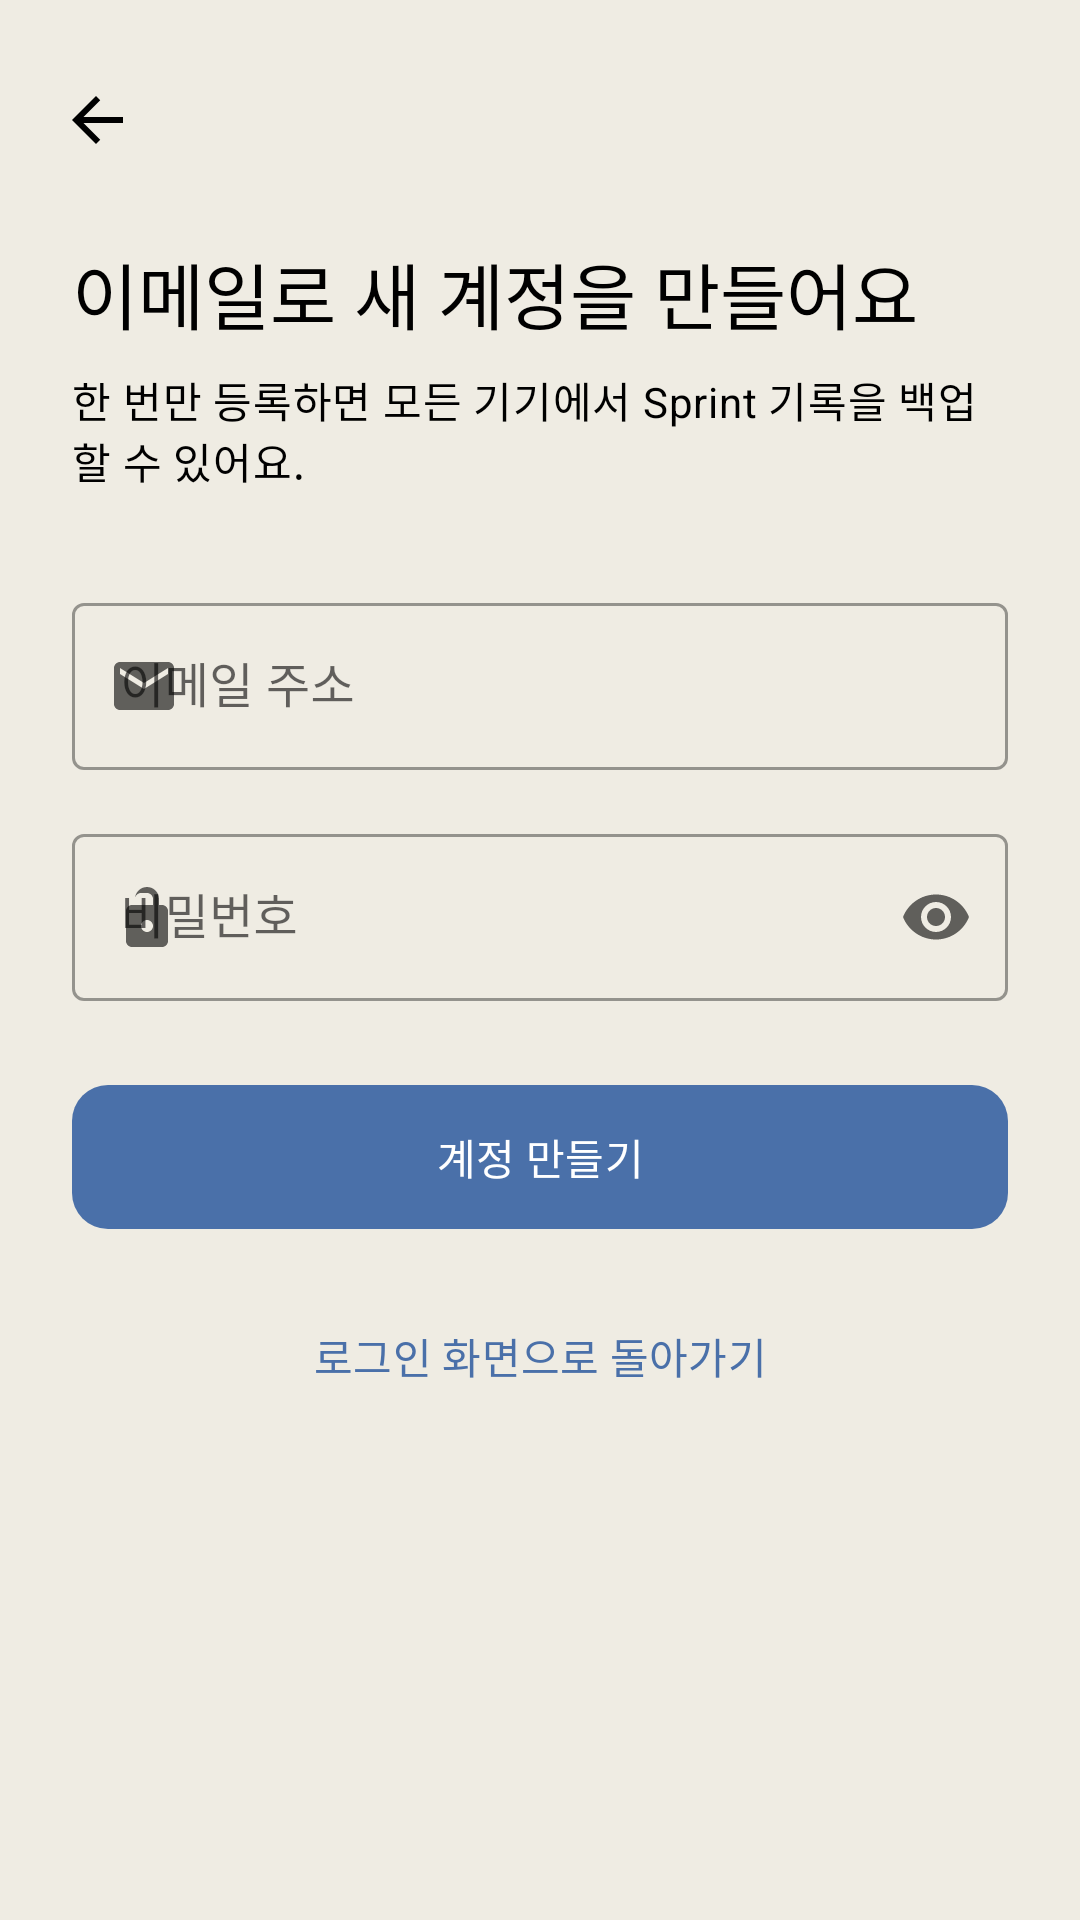

Where icons sit on this 1080×1920 app screen, as [x1, y1, x2, y2]:
뒤로 가기: [72, 96, 123, 144]
